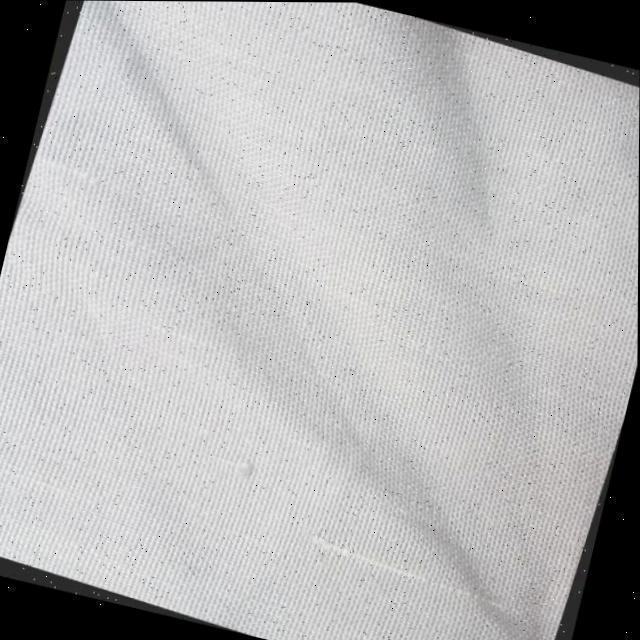pulled_or_thick_thread: (315, 533, 513, 611)
